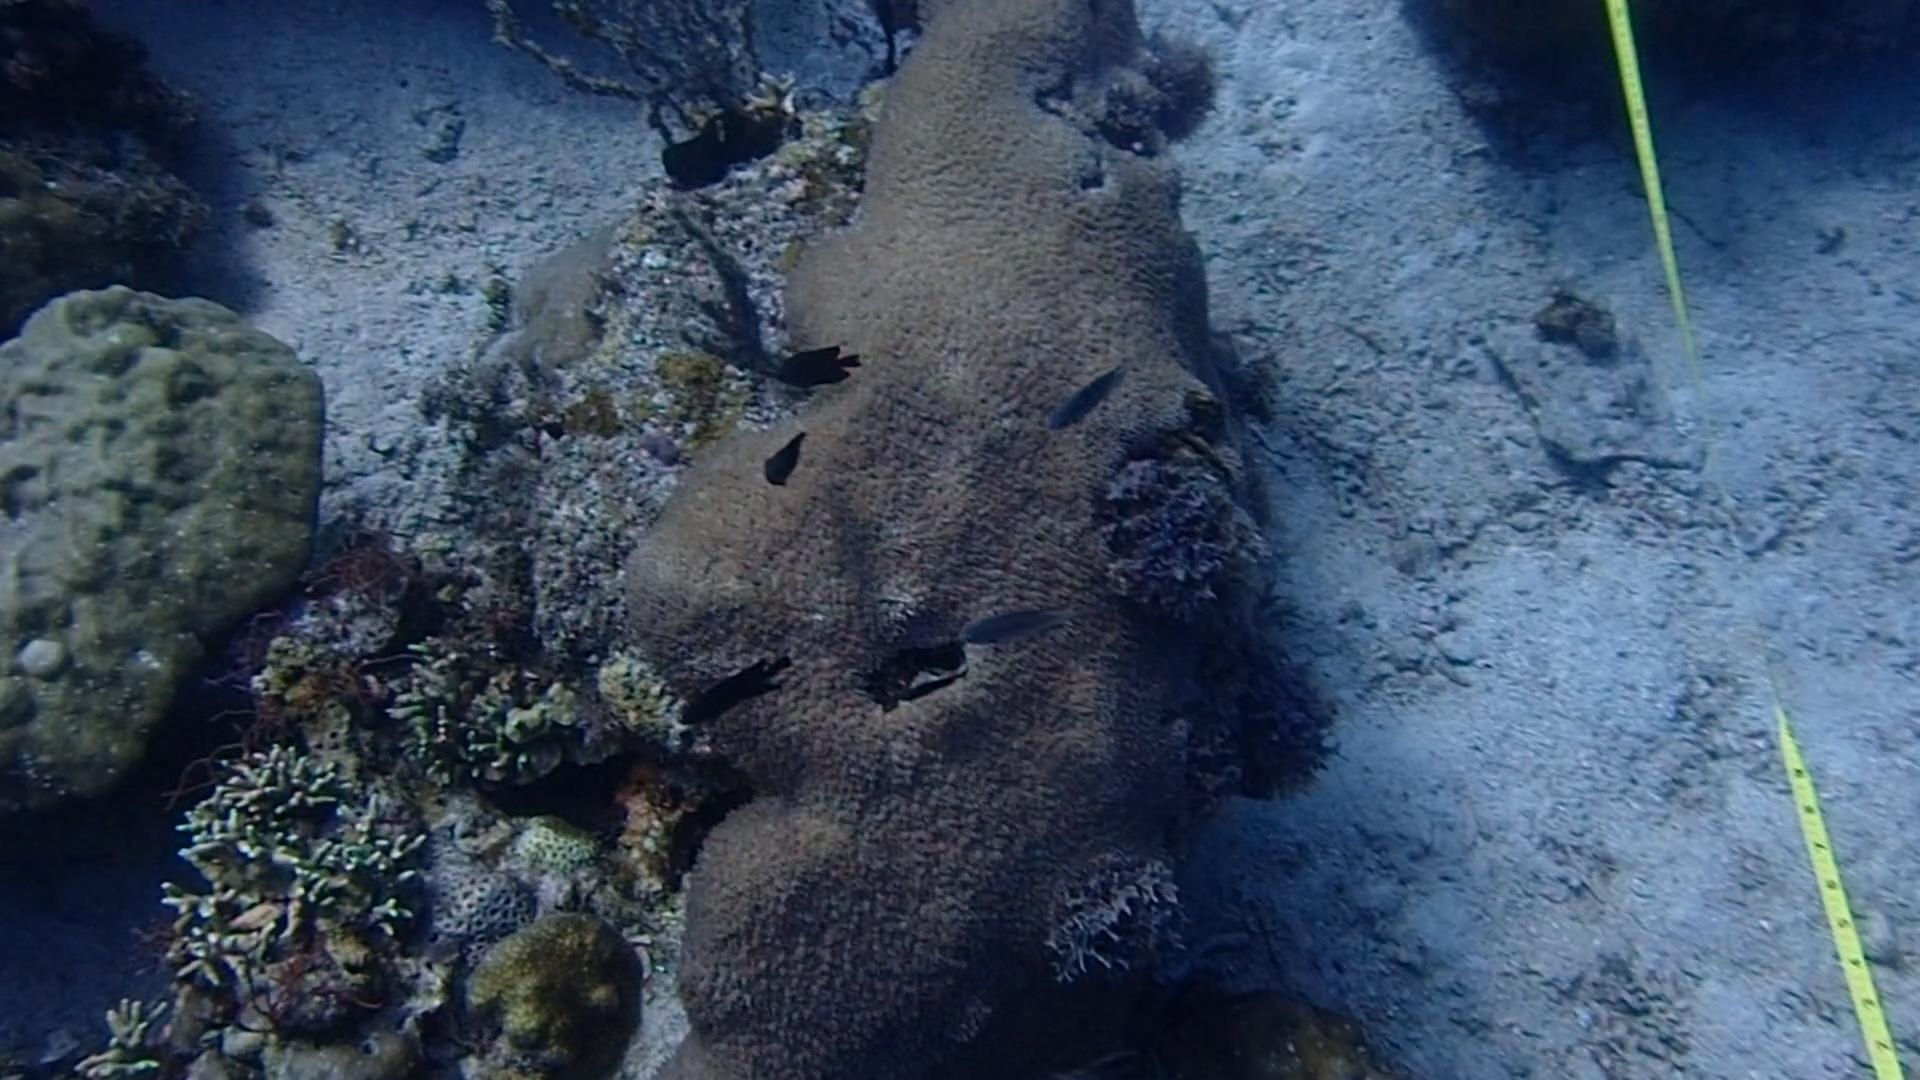Dark Fish: (654, 642, 793, 728), (765, 328, 869, 394), (749, 417, 819, 501), (891, 673, 967, 715)
Light Fish: (947, 591, 1079, 673), (1047, 353, 1124, 447)
